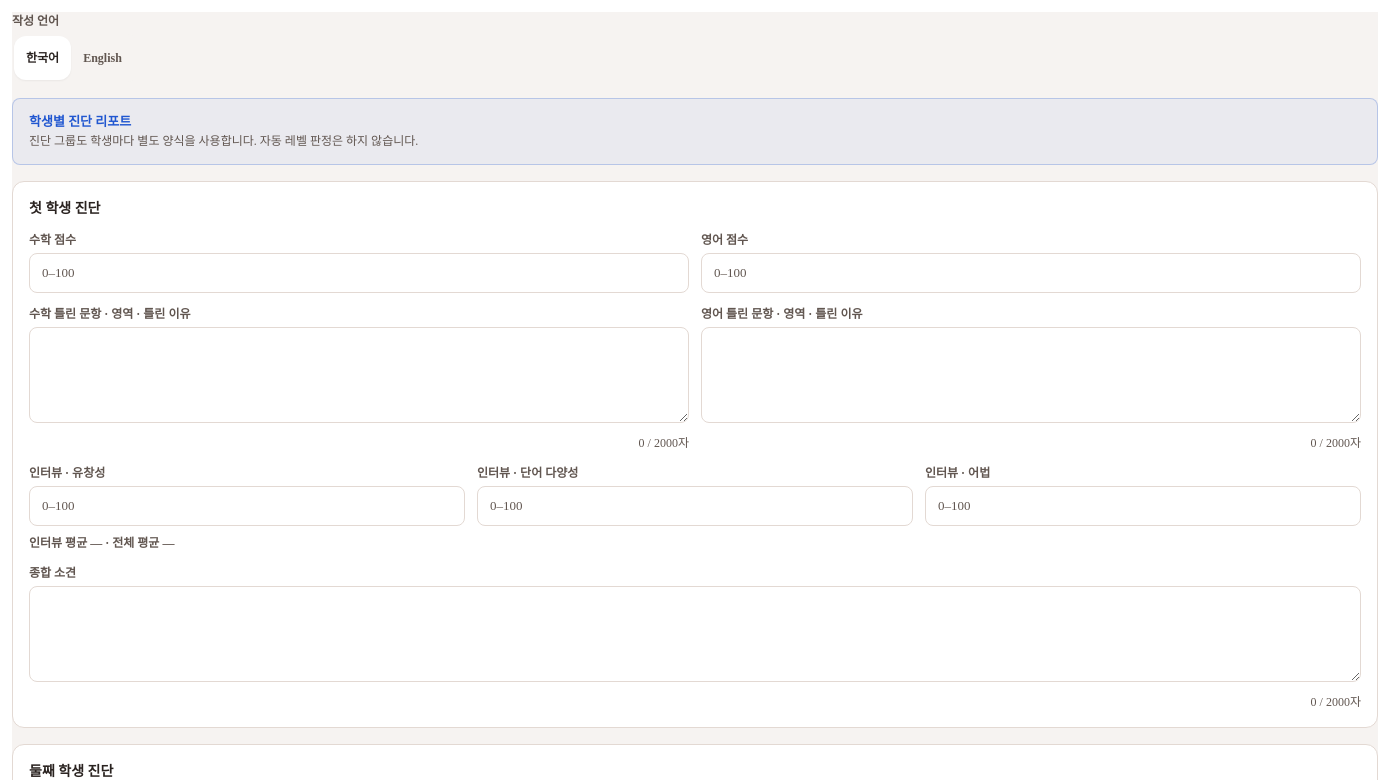
Test: 진단 그룹은 학생별 점수·오답·인터뷰 3영역과 확정된 세 영역 평균을 표시한다
This screenshot has width=1378, height=780.
Step 1. Type "70" into the number field labelled "인터뷰 · 유창성" → (247, 506), box [29,486,465,526]
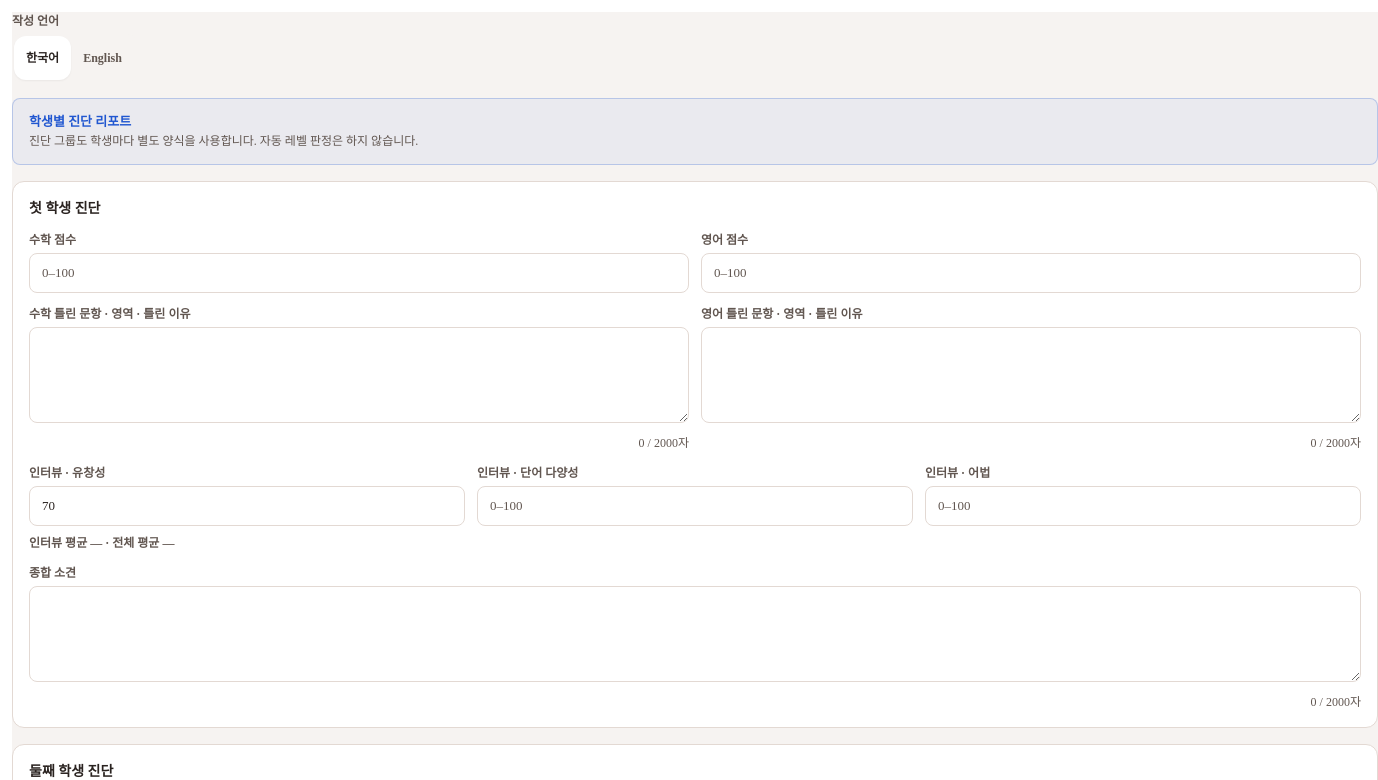
Step 2. Type "80" into the number field labelled "인터뷰 · 단어 다양성" → (695, 506), box [477,486,913,526]
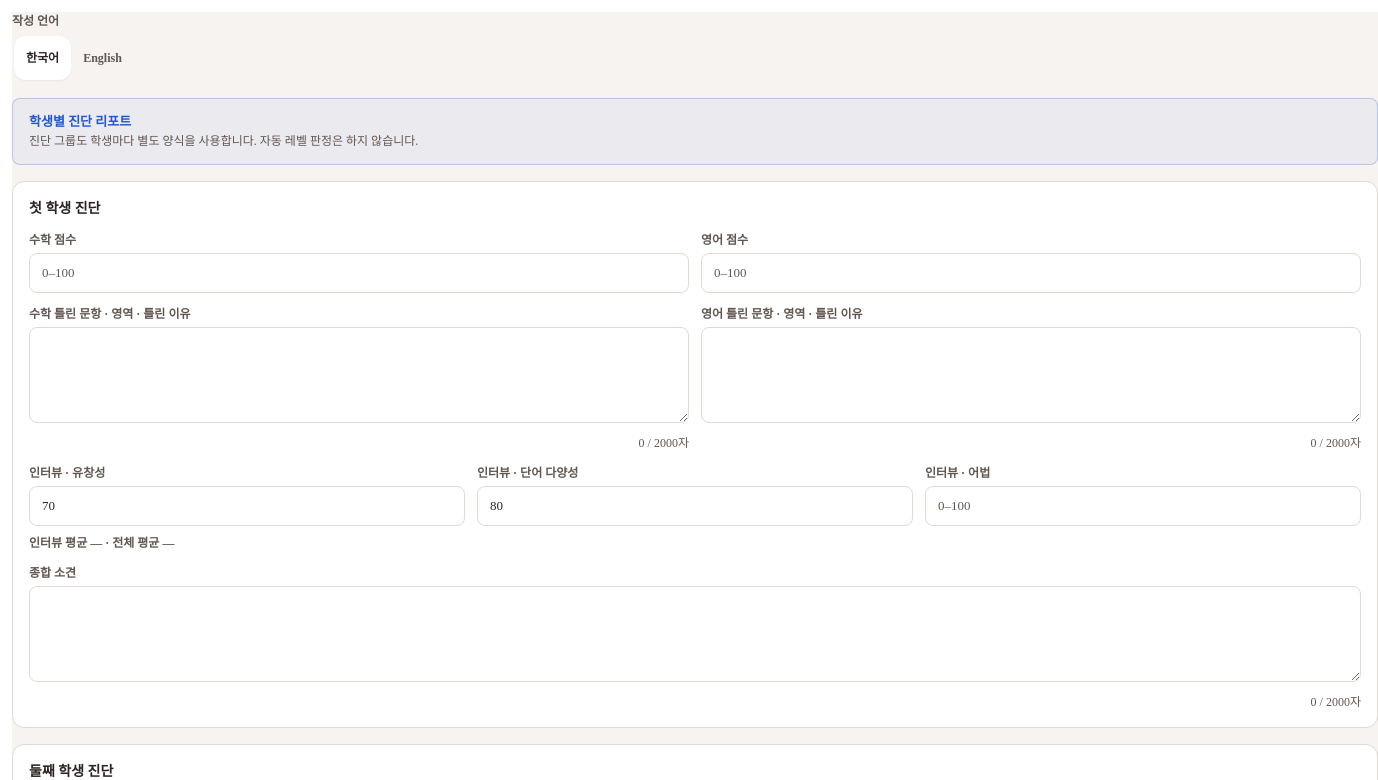
Step 3. Type "90" into the number field labelled "인터뷰 · 어법" → (1143, 506), box [925,486,1361,526]
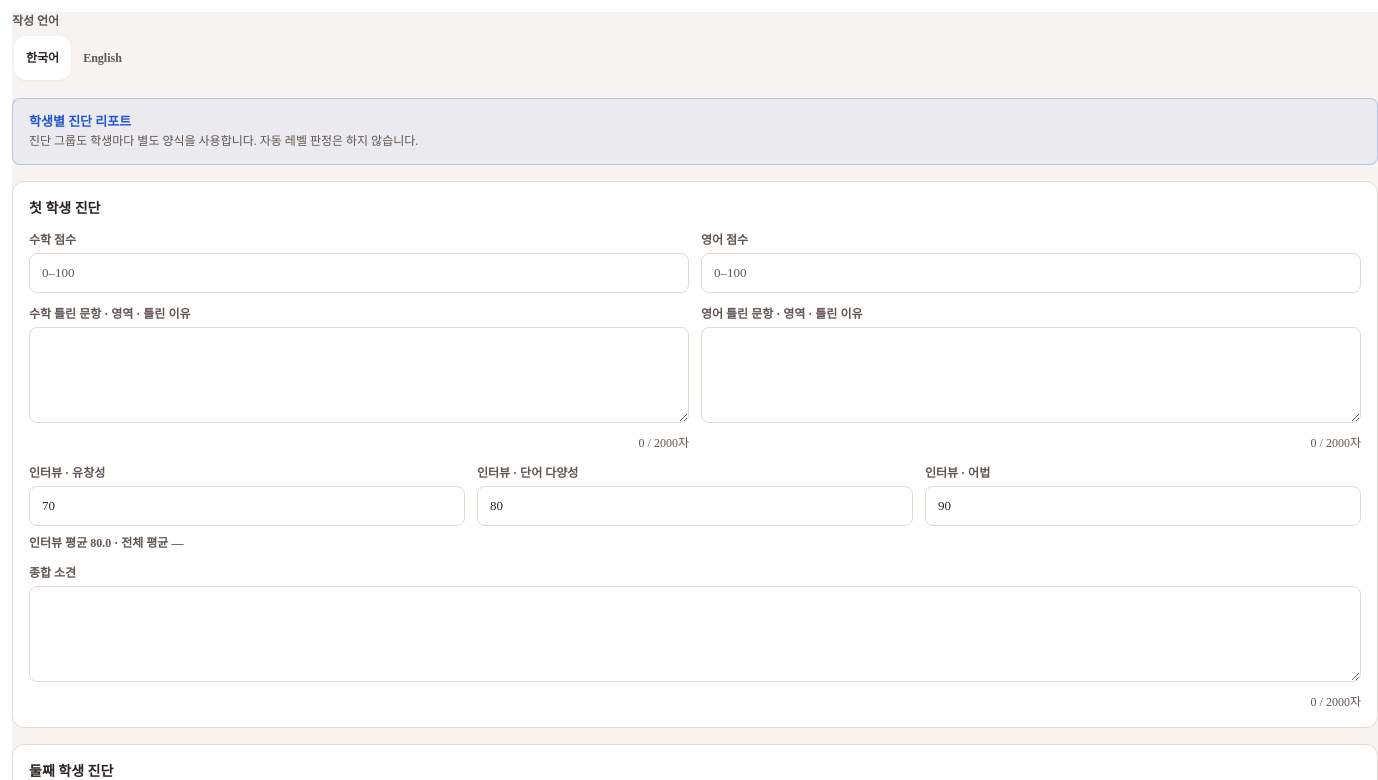
Check: the text "인터뷰 평균 80.0 · 전체 평균 —" is shown, box [29,536,183,550]
Step 4. Type "90" into the number field labelled "수학 점수" → (359, 273), box [29,253,689,293]
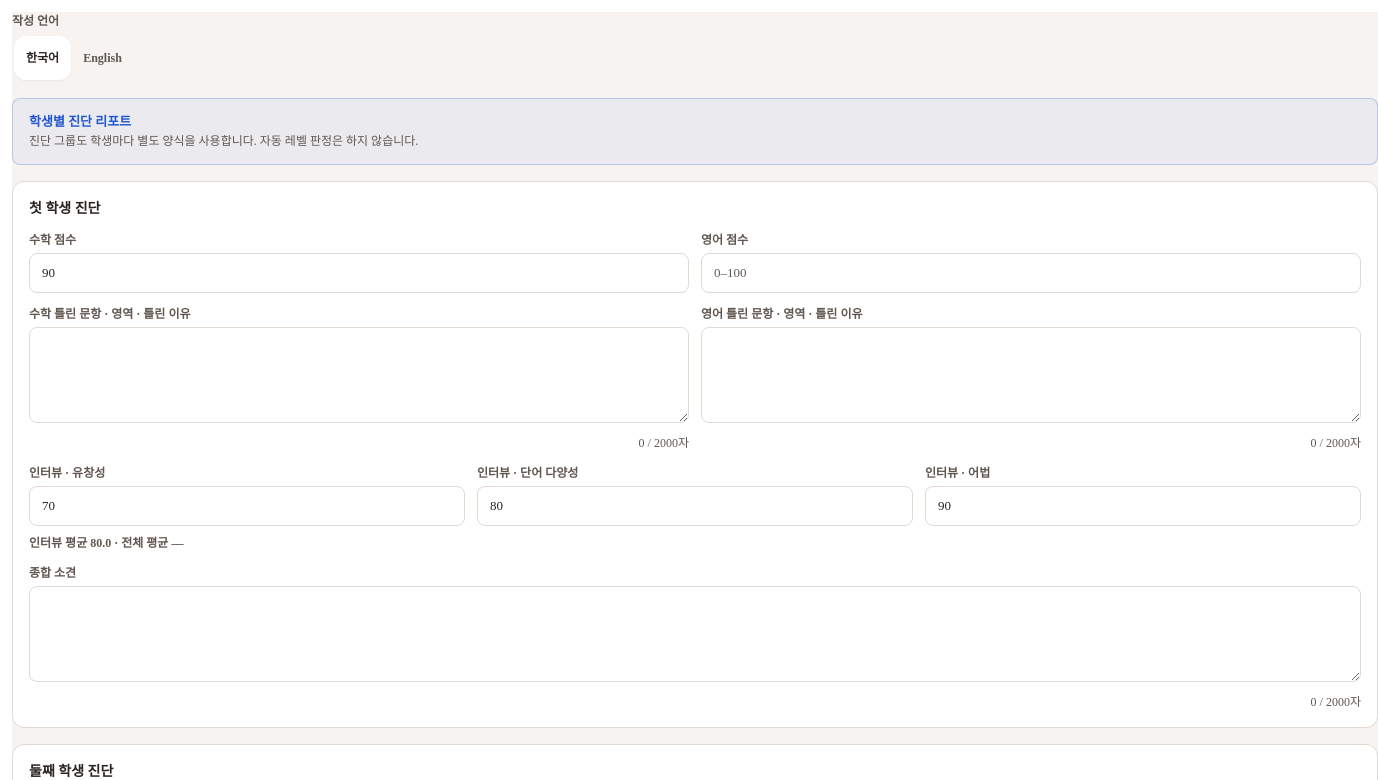
Step 5. Type "80" into the number field labelled "영어 점수" → (1031, 273), box [701,253,1361,293]
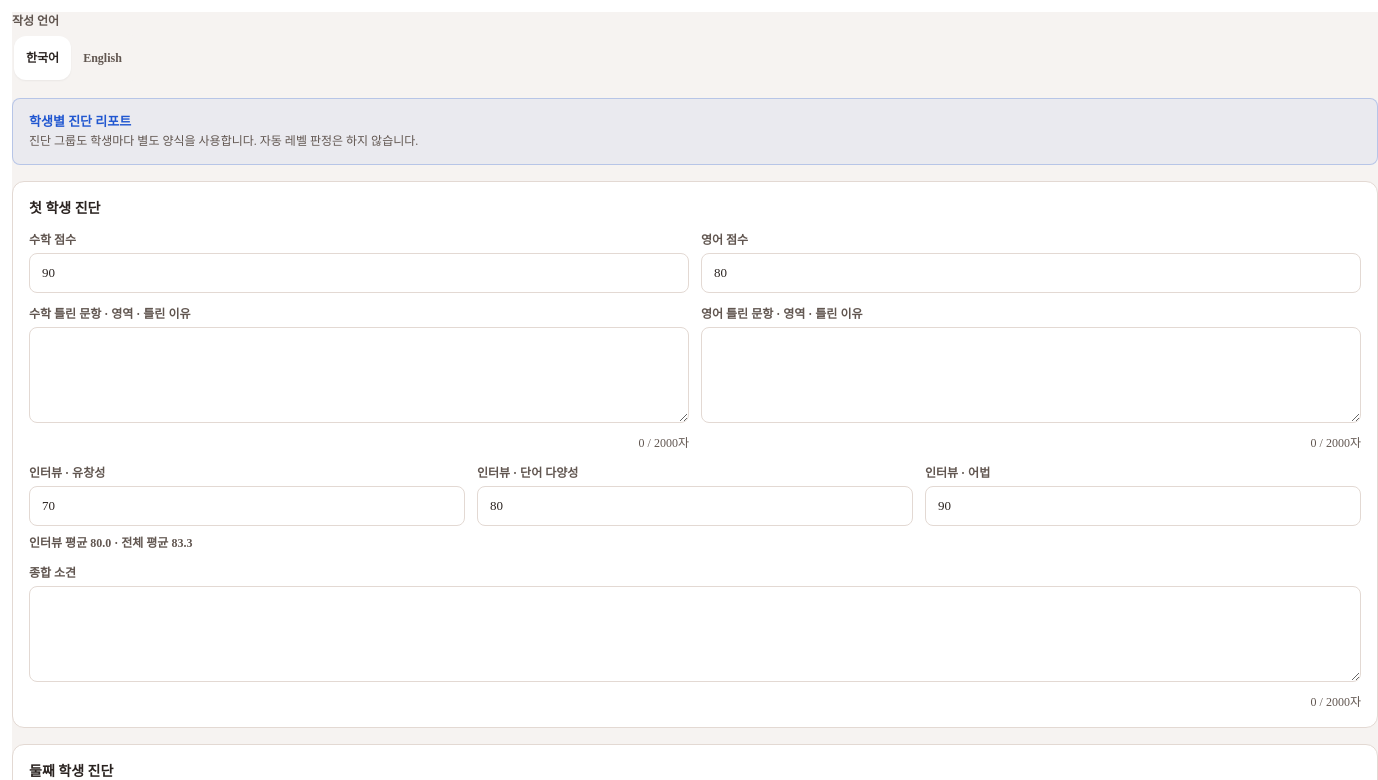
Check: the text "인터뷰 평균 80.0 · 전체 평균 83.3" is shown, box [29,536,192,550]
Step 6. Replace the text in the number field labelled "수학 점수" with "101" → (359, 273), box [29,253,689,293]
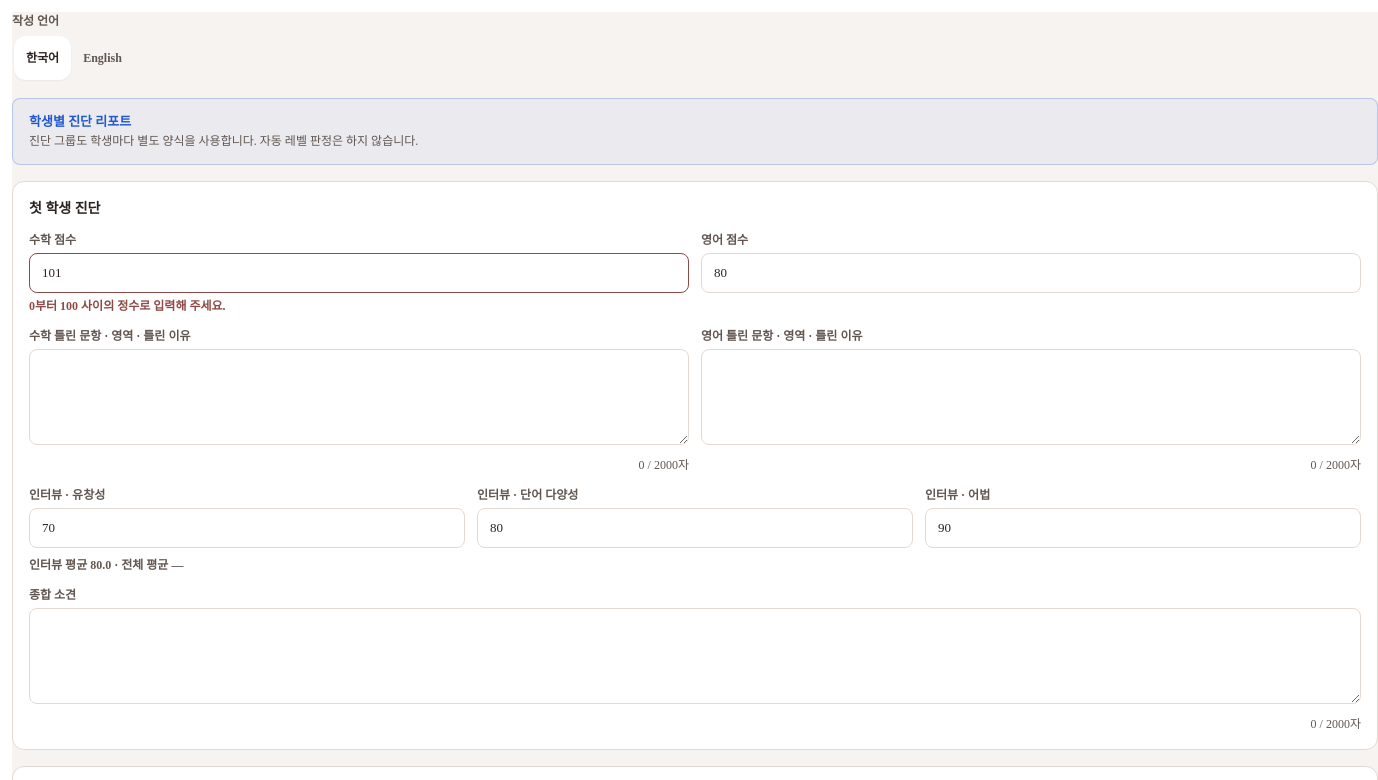
Check: the message shows "0부터 100 사이", box [29,299,226,313]
